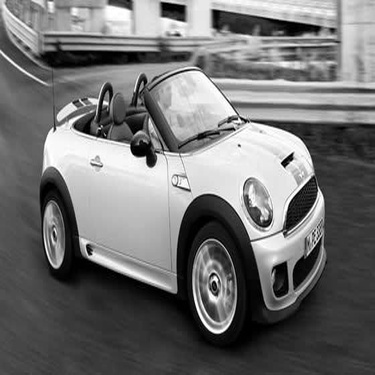car: (39, 58, 348, 337)
